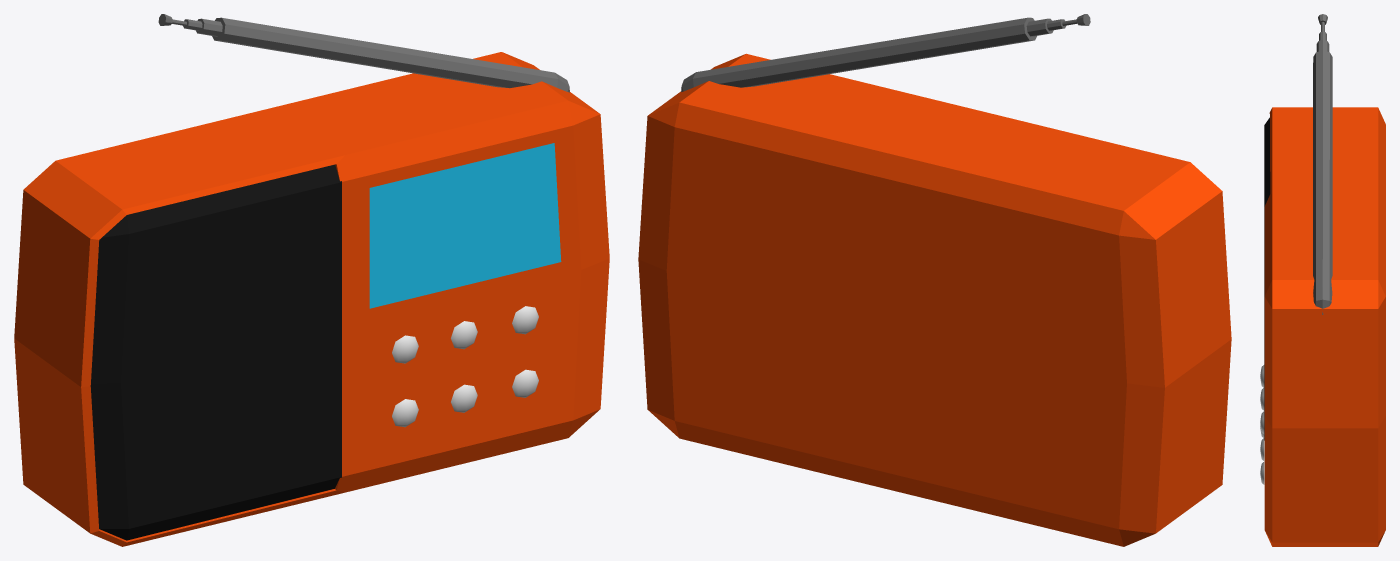
File: Radio.fbx
3 views of the same model, side by side, from view 1: azimuth 30°, elevation 25°; view 2: azimuth 150°, elevation 25°; view 3: azimuth 270°, elevation 25° (orthographic). The views are drawn at different scales.
Visible parts, largest first — view 1: Radio; view 2: Radio; view 3: Radio.
Boxes of the visible parts, x1,y1,x2,y2 form: Radio: (14, 14, 609, 546); Radio: (638, 14, 1231, 546); Radio: (1260, 14, 1385, 546).
Size of the model in its own units: 0.8126 by 0.7219 by 0.2113.
